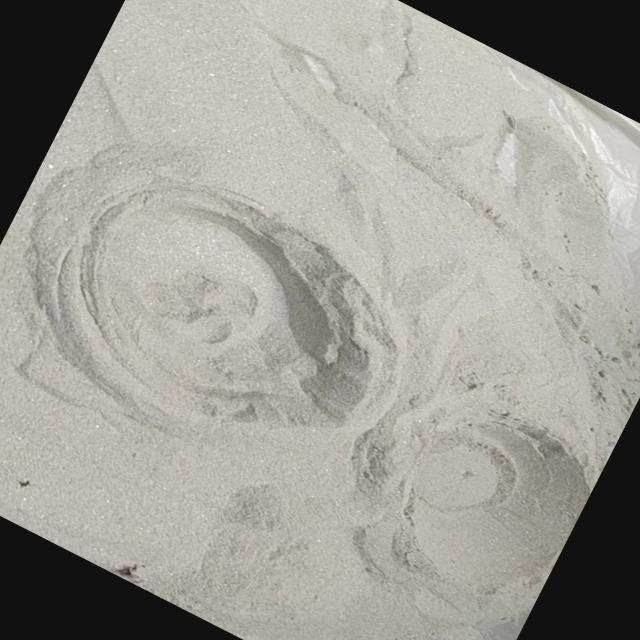C20: (55, 184, 369, 422), (407, 423, 589, 587)
